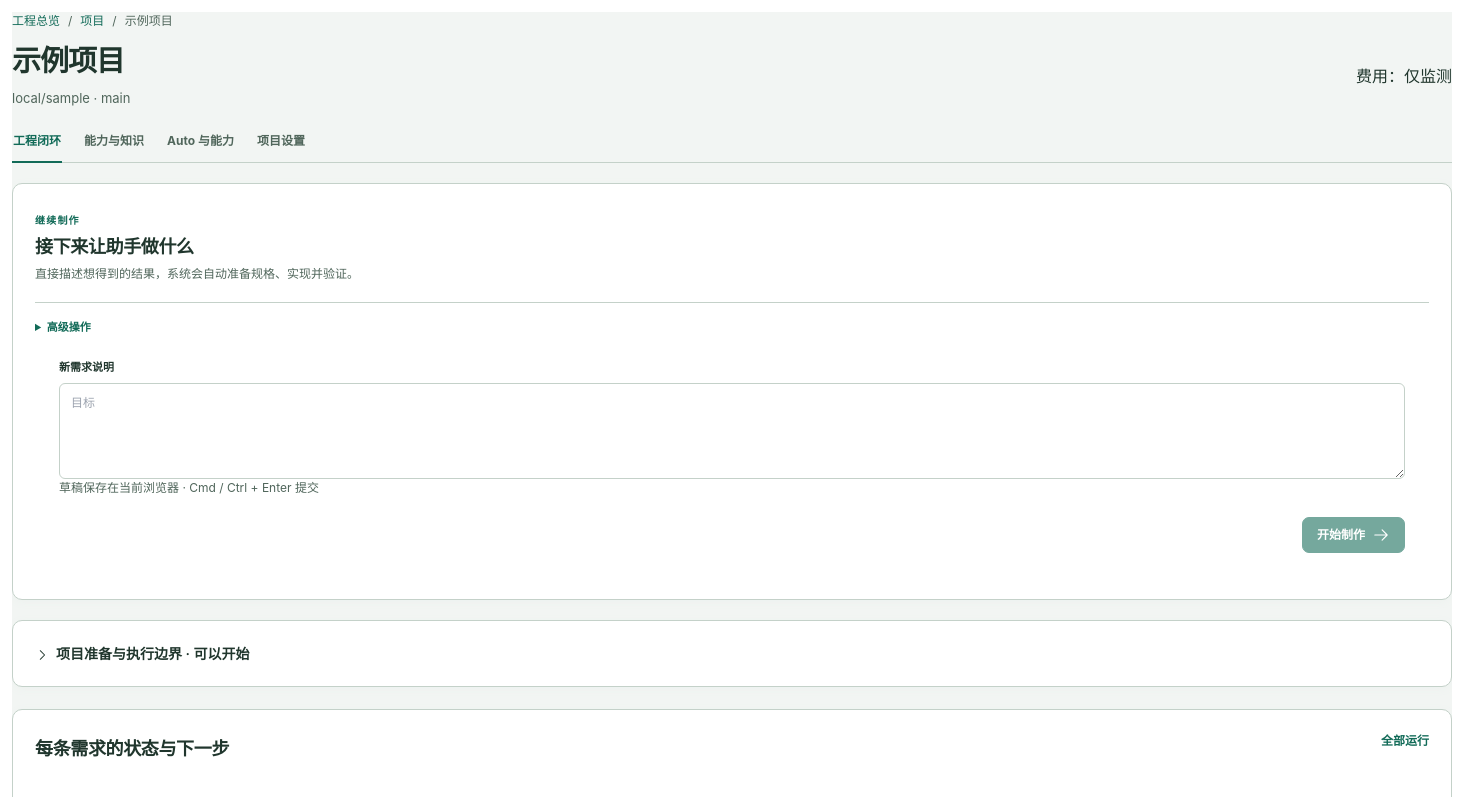
keeps settings out of the main flow and supports arrow keys between work-type tabs
Click the heading "高级操作".
click(69, 327)  # box [47,320,91,334]
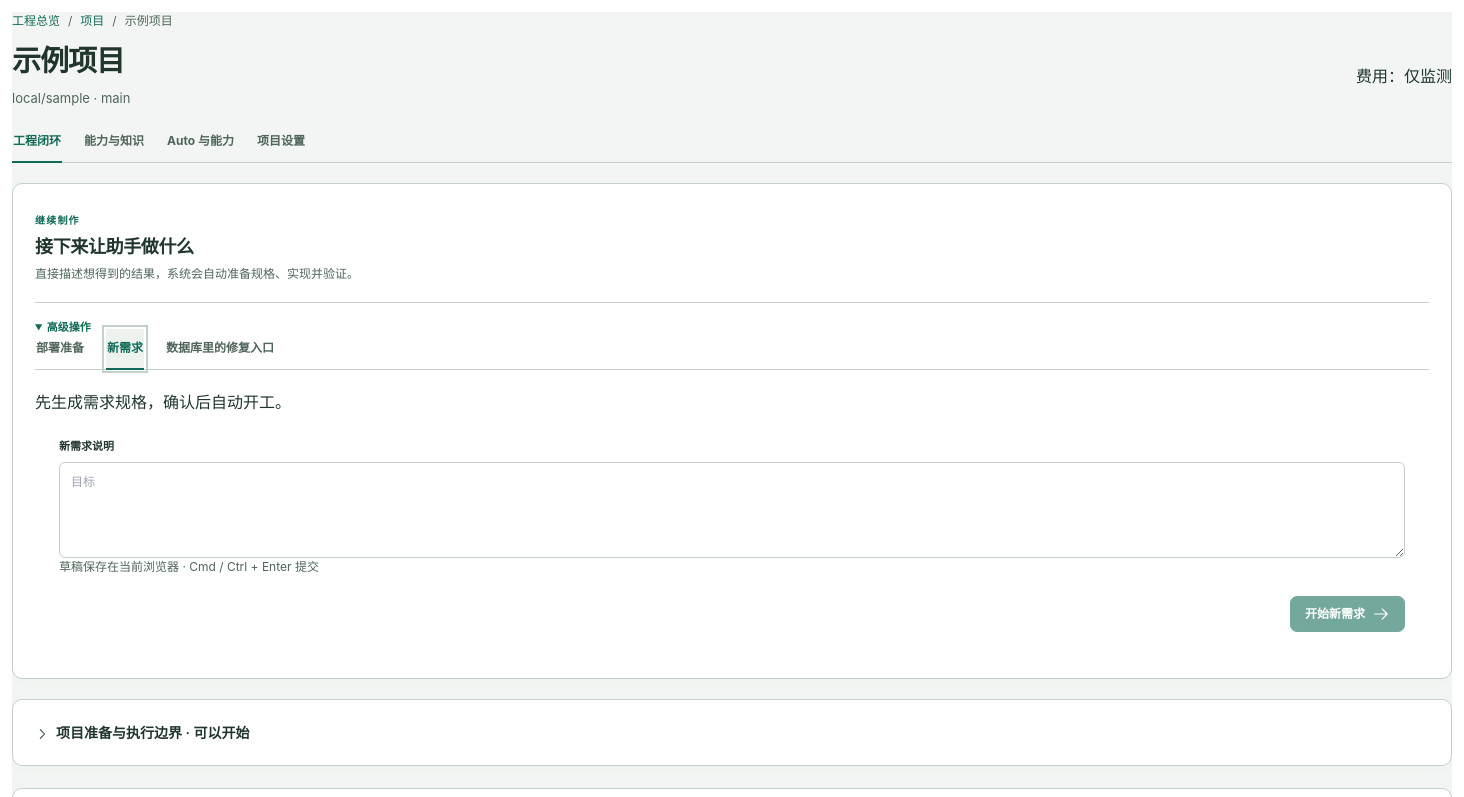
Expected: the text "定时巡检" is not shown
Expected: the text "项目服务器" is not shown
Press ArrowRight in the tab "新需求", box [106,329,144,369]
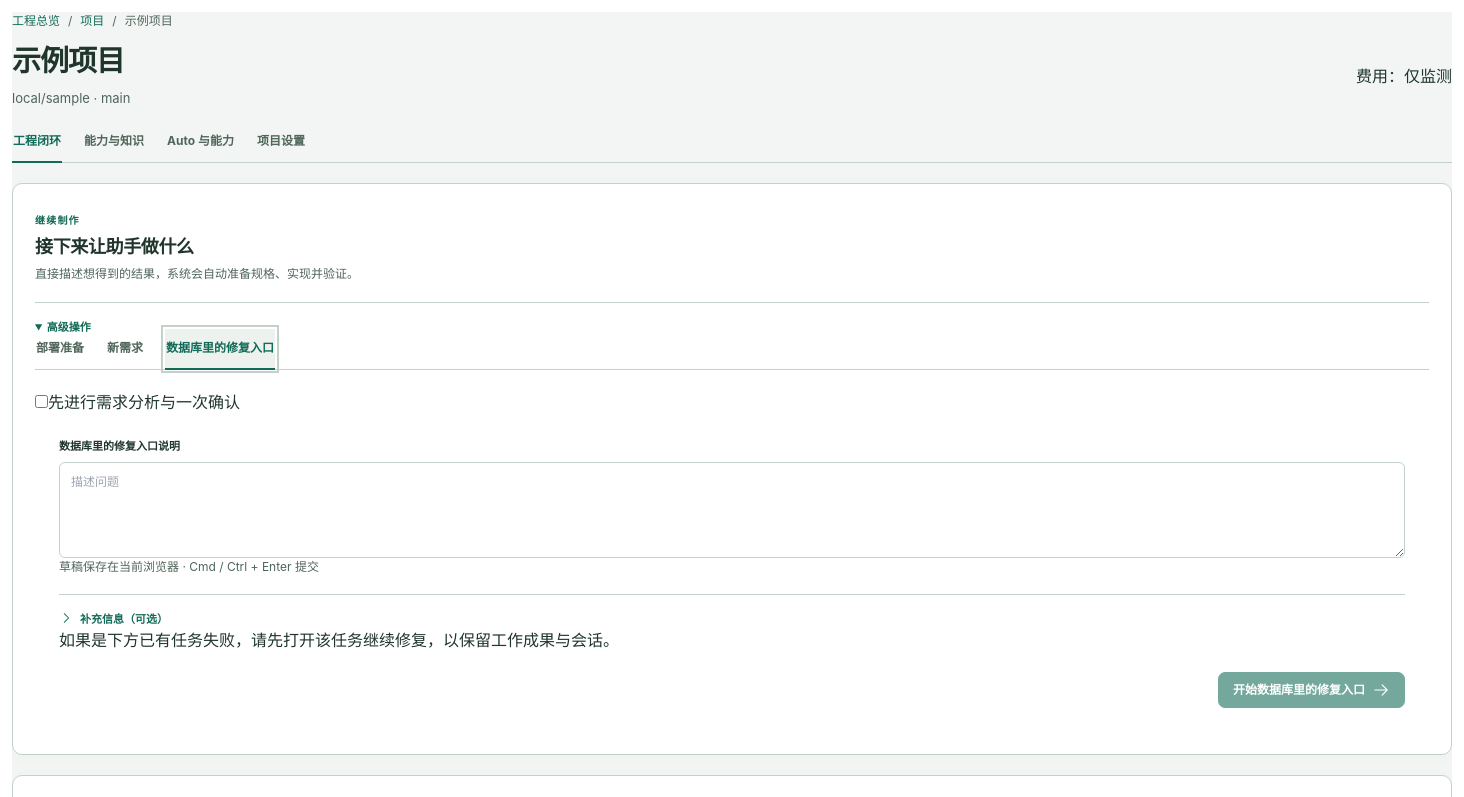
Now the tab "数据库里的修复入口" is selected, box [165,329,275,369]
Click the button "项目设置".
click(281, 142)  # box [256,122,306,162]
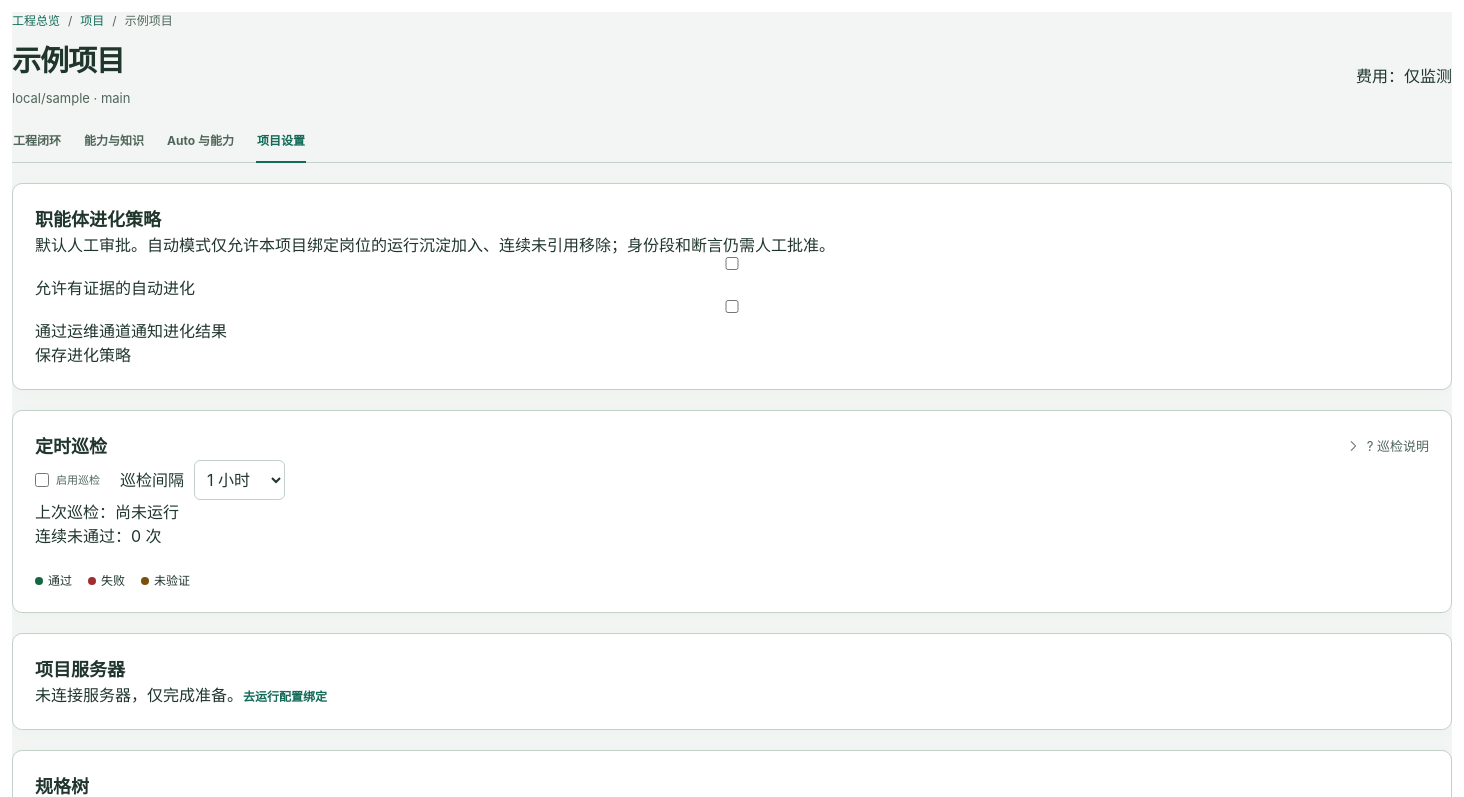
Now the heading "定时巡检" is shown, box [35,433,107,460]
Now the heading "项目服务器" is shown, box [35,659,125,680]
